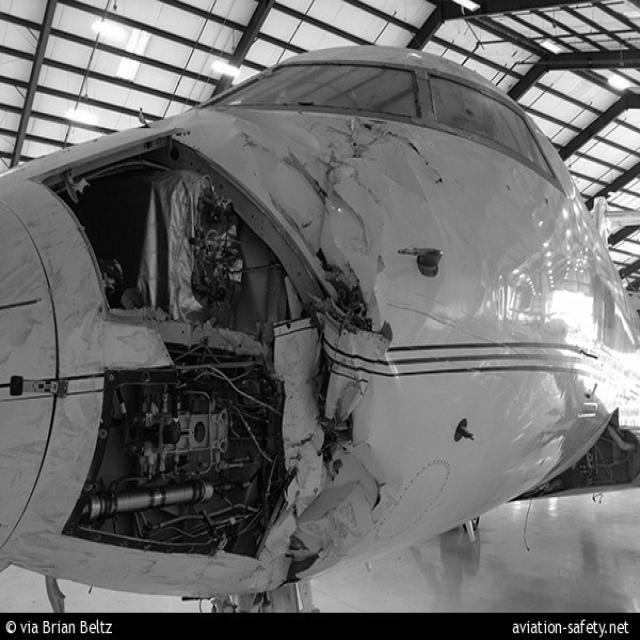crack: (361, 123, 446, 186), (351, 450, 393, 514)
